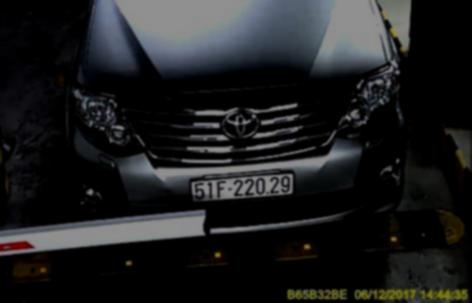License_Plate: (189, 174, 297, 203)
